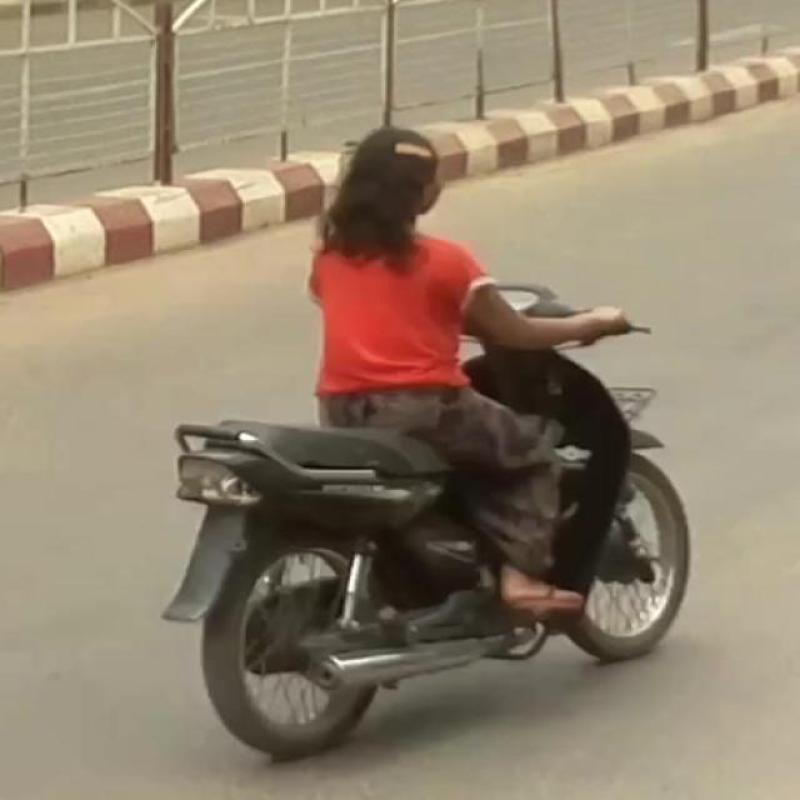nohelmet: (305, 109, 510, 243)
